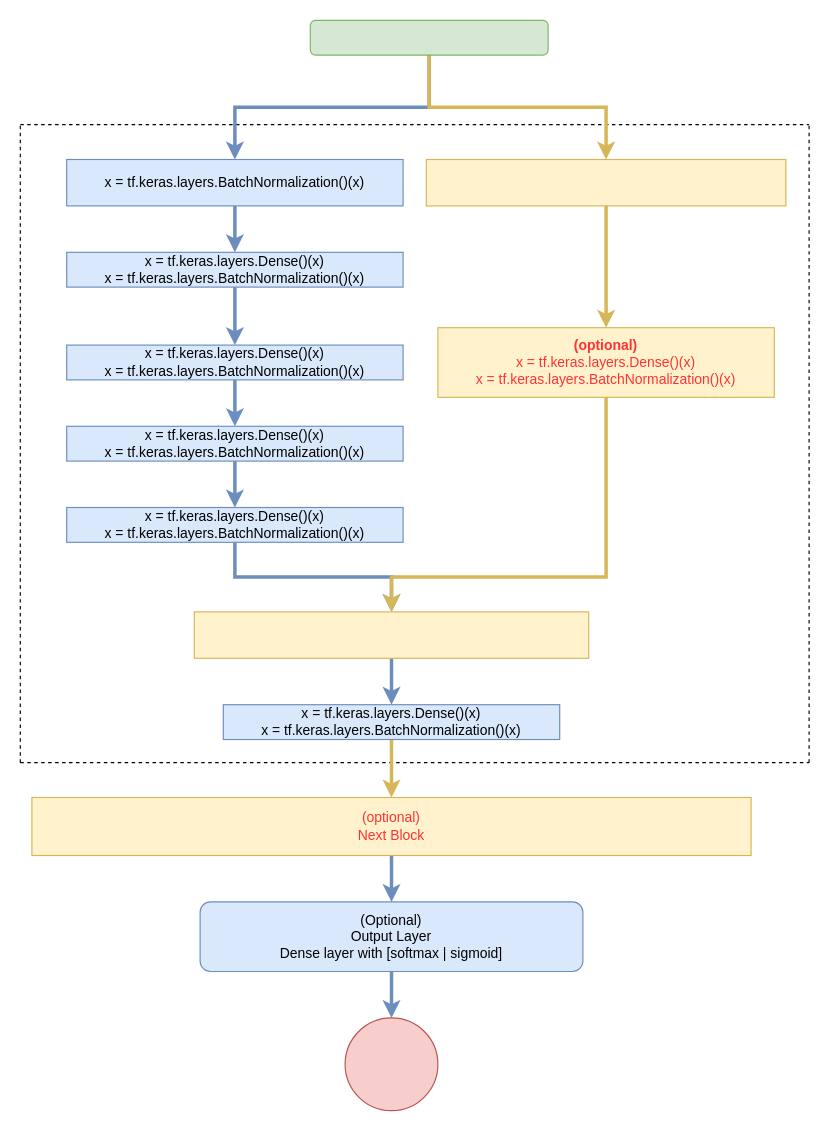
Some shapes in this 831 by 1131 pixel diagram are drawn without their labels. The box of each missing label's shape, as (x1, y1, x2, y2) in pixels:
Predictions: (344, 1017, 438, 1111)
x = tf . keras . layers . Concatenate ( axis = 1 )([ x , y ]): (193, 611, 589, 658)
x = tf.keras.layers.Input(...): (309, 19, 548, 55)
y = tf.keras.layers.BatchNormalization()(x): (425, 158, 786, 206)
